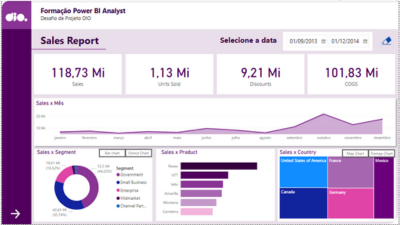

What the dashboard file says about the page in this screenshot:
{"tool":"powerbi","page":{"name":"Sales","canvas":[1280,720],"ordinal":0},"visuals":[{"type":"shape","box":[0,0,1280,720],"z":0},{"type":"image","title":"Clean","box":[1215.6,108.8,53.3,40],"z":0,"group":"g1"},{"type":"card","fields":{"Values":["Sum(financials. Sales)"]},"box":[104.3,171,282.6,130.4],"z":0,"group":"g4"},{"type":"donutChart","title":"Sales x Segment ","fields":{"Y":["Sum(financials. Sales)"],"Category":["financials.Segment"]},"box":[109.3,476.8,376.7,230.2],"z":0,"group":"g3"},{"type":"map","title":"Sales x Country","fields":{"Category":["financials.Country"],"Size":["Sum(financials. Sales)"]},"box":[889.6,477.6,380.6,231.3],"z":0,"group":"g2"},{"type":"shape","box":[0,0,96,720],"z":1000},{"type":"textbox","box":[700.1,104.4,207.7,49.2],"z":1000,"group":"g1"},{"type":"card","fields":{"Values":["Sum(financials.Units Sold)"]},"box":[400,171,282.6,130.4],"z":1000,"group":"g4"},{"type":"treemap","title":"Sales x Country ","fields":{"Group":["financials.Country"],"Values":["Sum(financials. Sales)"]},"box":[890.7,476.7,379.1,230.2],"z":1000,"group":"g2"},{"type":"shape","box":[0,0,95.7,91.3],"z":2000},{"type":"actionButton","box":[1216.3,109.3,62.8,39.5],"z":2000,"group":"g1"},{"type":"card","fields":{"Values":["Sum(financials.Discounts)"]},"box":[694.2,171,282.6,130.4],"z":2000,"group":"g4"},{"type":"actionButton","title":"Donut Chart","box":[398.3,476.7,86.7,26.7],"z":2000,"group":"g3"},{"type":"actionButton","title":"Maps","box":[1096.7,478.3,86.7,26.7],"z":2000,"group":"g2"},{"type":"image","box":[8,12,80,80],"z":3000},{"type":"card","fields":{"Values":["Sum(financials.COGS)"]},"box":[986.9,171,282.6,130.4],"z":3000,"group":"g4"},{"type":"actionButton","title":"Bar Chart","box":[313.3,476.7,86.7,26.7],"z":3000,"group":"g3"},{"type":"actionButton","title":"Tremap","box":[1181.7,478.3,86.7,26.7],"z":3000,"group":"g2"},{"type":"shape","box":[95.7,0,1184.1,91.3],"z":4000},{"type":"textbox","box":[120,11.7,341,65.9],"z":5000},{"type":"shape","box":[94.4,138.9,240.7,33.3],"z":6000,"group":"g5"},{"type":"shape","box":[95.8,304.2,1184.7,172.2],"z":6000},{"type":"textbox","box":[119.4,100,280.6,55.6],"z":7000,"group":"g5"},{"type":"shape","box":[104.1,477.6,381.6,234.7],"z":7000},{"type":"shape","box":[498,477.6,381.6,232.7],"z":8000},{"type":"shape","box":[889.4,476.6,380.9,234],"z":9000},{"type":"areaChart","title":"Sales x Mês","fields":{"Category":["financials.Date.Variation.Hierarquia de datas.Mês"],"Y":["Sum(financials. Sales)"]},"box":[104.7,318.6,1165.1,139.5],"z":10000},{"type":"clusteredBarChart","title":"Sales x Product","fields":{"Y":["Sum(financials. Sales)"],"Category":["financials.Product"]},"box":[509,477.6,371.6,231.3],"z":11000},{"type":"slicer","fields":{"Values":["financials.Date"]},"box":[907.4,100,289.3,61.5],"z":12000},{"type":"group","id":"g1","title":"Filtro por Data","box":[700.1,104.4,579,49.2],"z":13000},{"type":"group","id":"g2","title":"Sales x Country","box":[889.6,476.7,380.6,232.2],"z":14000},{"type":"group","id":"g3","title":"Sales x Segment","box":[108.8,476.7,377.2,232.2],"z":15000},{"type":"actionButton","box":[23.5,666.7,64.7,39.2],"z":16000},{"type":"group","id":"g4","title":"Cartões","box":[104.3,171,1165.2,130.4],"z":17000},{"type":"group","id":"g5","title":"Grupo 1","box":[94.4,100,305.6,72.2],"z":18000}]}

Visuals, with their boxes in screenshot pixels (x1, y1, x2, y2), scaled from the page's 1280x720 canvas onto the 400x225 screenshot:
shape: 0/0/399/224
"Clean" image: 380/34/397/46
card - Sum(financials. Sales): 33/53/121/94
"Sales x Segment " donutChart: 34/149/152/221
"Sales x Country" map: 278/149/397/222
shape: 0/0/30/224
textbox: 219/33/284/48
card - Sum(financials.Units Sold): 125/53/213/94
"Sales x Country " treemap: 278/149/397/221
shape: 0/0/30/29
actionButton: 380/34/399/46
card - Sum(financials.Discounts): 217/53/305/94
"Donut Chart" actionButton: 124/149/152/157
"Maps" actionButton: 343/149/370/158
image: 2/4/28/29
card - Sum(financials.COGS): 308/53/397/94
"Bar Chart" actionButton: 98/149/125/157
"Tremap" actionButton: 369/149/396/158
shape: 30/0/399/29
textbox: 38/4/144/24
shape: 30/43/105/54
shape: 30/95/399/149
textbox: 37/31/125/49
shape: 33/149/152/223
shape: 156/149/275/222
shape: 278/149/397/222
"Sales x Mês" areaChart: 33/100/397/143
"Sales x Product" clusteredBarChart: 159/149/275/222
slicer - financials.Date: 284/31/374/50
"Filtro por Data" group: 219/33/399/48
"Sales x Country" group: 278/149/397/222
"Sales x Segment" group: 34/149/152/222
actionButton: 7/208/28/221
"Cartões" group: 33/53/397/94
"Grupo 1" group: 30/31/125/54
